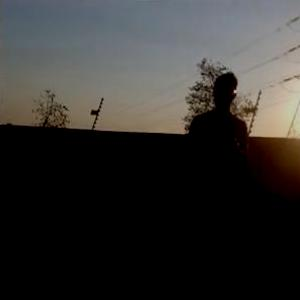follow: (172, 68, 250, 289)
